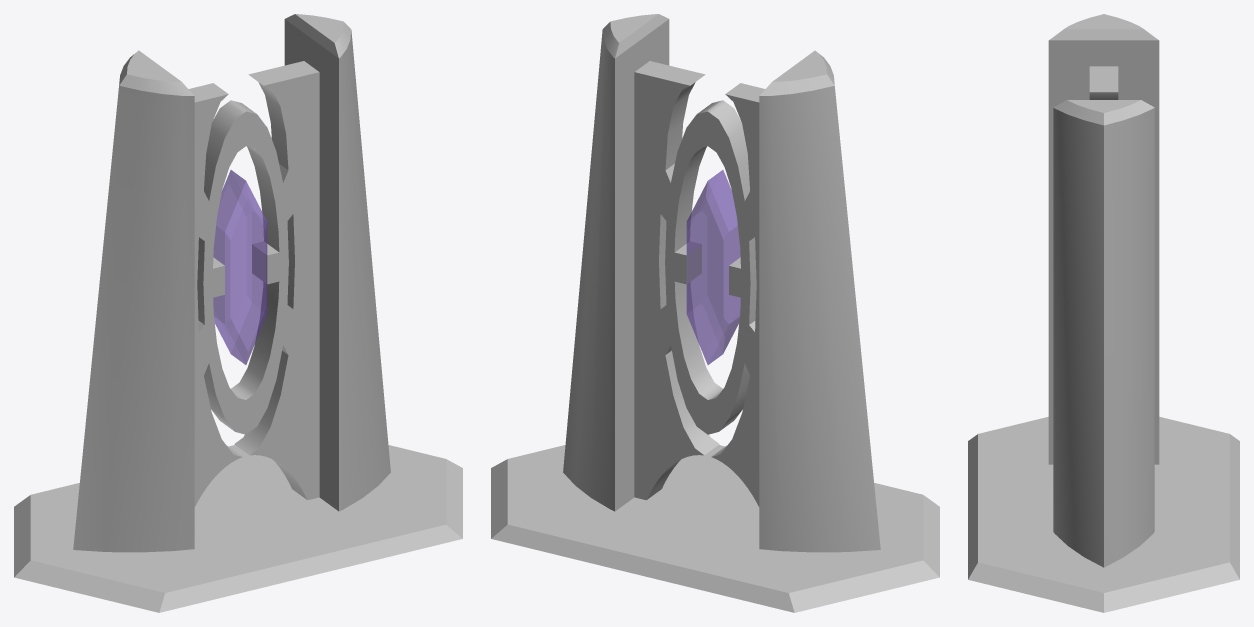
Rendered from Prop_Altar_Crystal_Smooth_Stone_01.fbx.
3 renders of one model, left to right at view 1: azimuth 30°, elevation 25°; view 2: azimuth 150°, elevation 25°; view 3: azimuth 270°, elevation 25°, orthographic. The views are drawn at different scales.
Visible parts, largest first — view 1: Prop_Altar_Crystal_Smooth_Stone_01; view 2: Prop_Altar_Crystal_Smooth_Stone_01; view 3: Prop_Altar_Crystal_Smooth_Stone_01.
Part boxes in pixels (x1,y1,x2,y2): Prop_Altar_Crystal_Smooth_Stone_01: (14, 14, 462, 612); Prop_Altar_Crystal_Smooth_Stone_01: (491, 14, 939, 612); Prop_Altar_Crystal_Smooth_Stone_01: (968, 14, 1239, 612).
Bounding box in the file's own units: 184 × 186 × 103.
